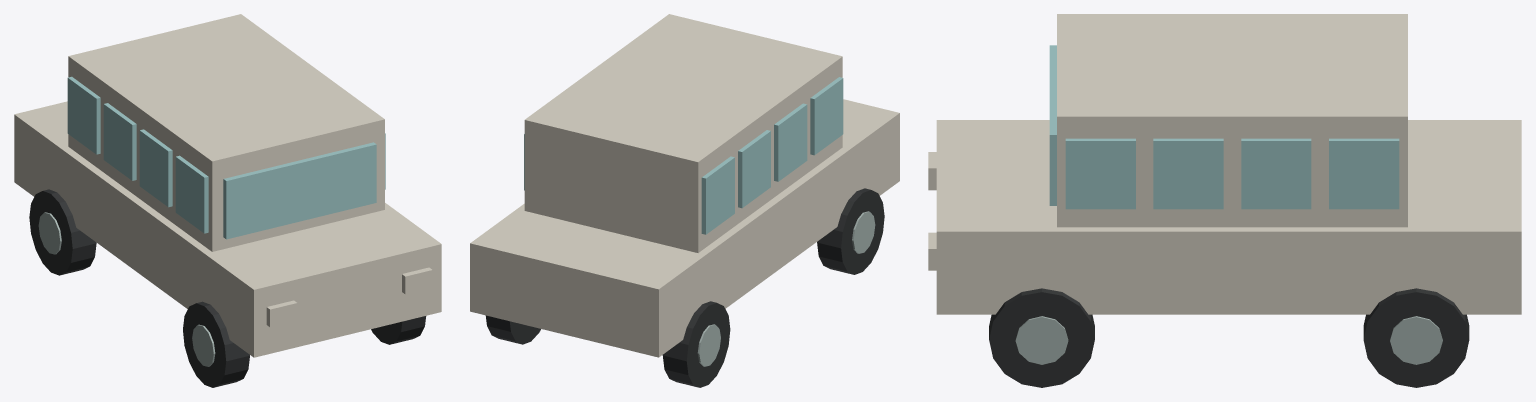
Rendered from 014_compact_taxi.glb.
3 renders of one model, left to right at view 1: azimuth 30°, elevation 25°; view 2: azimuth 150°, elevation 25°; view 3: azimuth 270°, elevation 25°, orthographic. The views are drawn at different scales.
Visible parts, largest first — view 1: Compact taxi; view 2: Compact taxi; view 3: Compact taxi.
Boxes of the visible parts, x1=… form: Compact taxi: x1=14, y1=14, x2=441, y2=387; Compact taxi: x1=470, y1=14, x2=899, y2=387; Compact taxi: x1=928, y1=14, x2=1521, y2=387.
Size of the model in its own units: 1.79 by 1.81 by 3.7.
